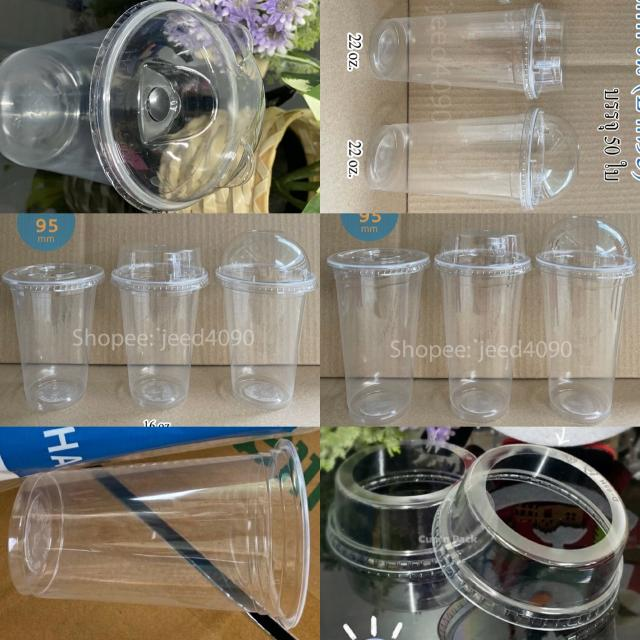Single-Use-Plastic: (9, 439, 309, 628), (0, 1, 265, 212), (433, 445, 628, 631), (365, 108, 578, 211), (535, 216, 637, 424), (327, 440, 474, 573), (434, 230, 532, 422), (369, 4, 565, 99), (327, 248, 430, 424), (215, 230, 316, 409), (110, 244, 209, 408), (3, 262, 105, 410)
